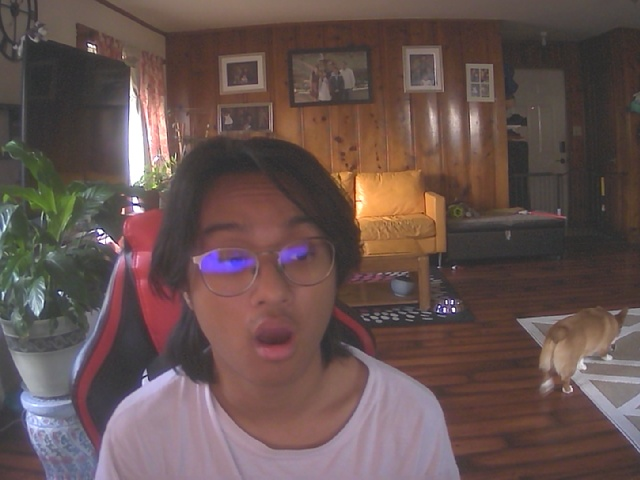fear: (170, 159, 349, 388)
